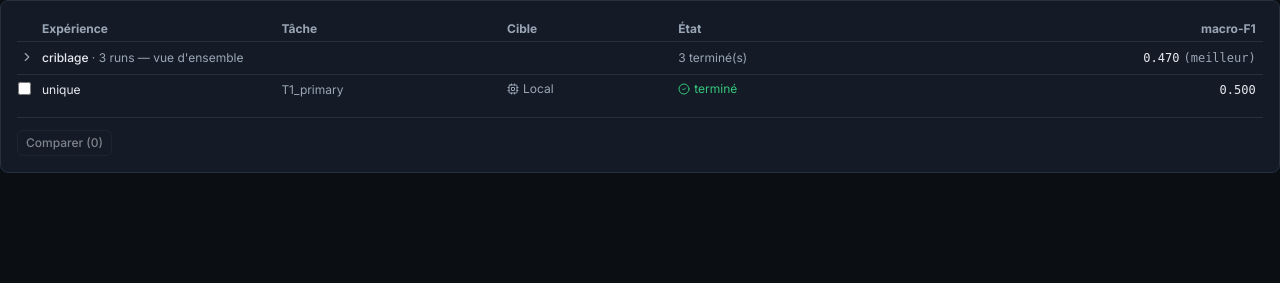
RunList — regroupement des sweeps › ⭐ déplier montre les runs individuels, replier les masque
Click the button with test id "run-group-toggle-sweep-1" at (27, 57), box [18,48,36,66]
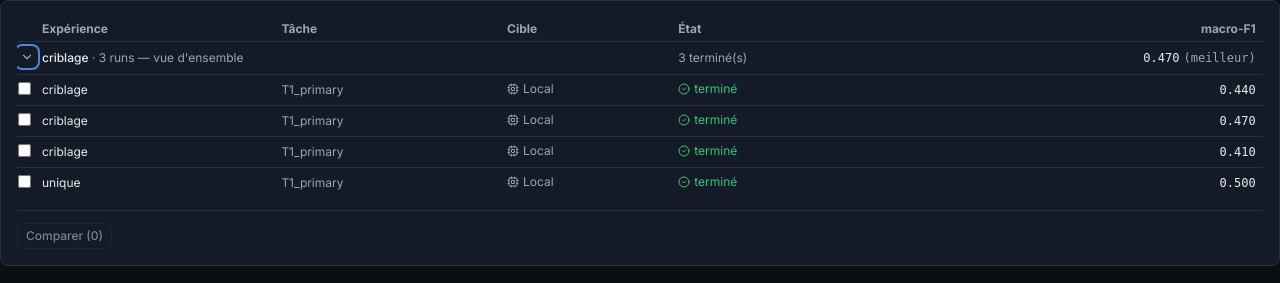
Now the button with test id "run-group-toggle-sweep-1" is expanded
Now the row with test id "run-s1" is shown, box [17,74,1263,106]
Now the row with test id "run-s2" is shown, box [17,106,1263,136]
Click the button with test id "run-group-toggle-sweep-1" at (27, 57), box [18,48,36,66]
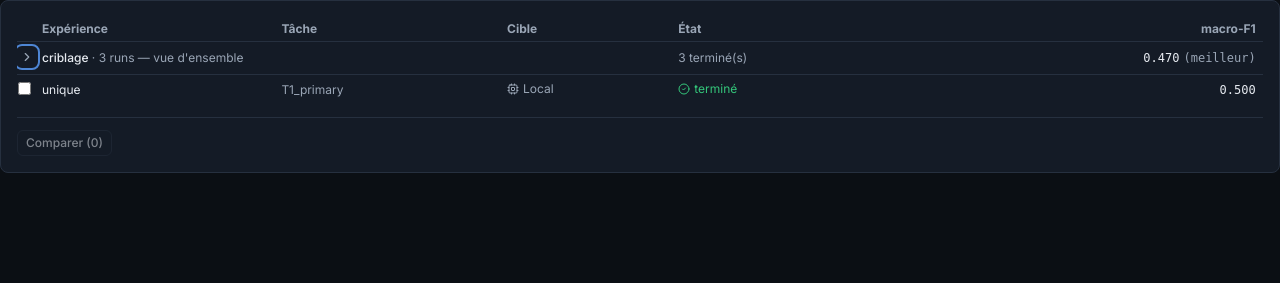
Now the row with test id "run-s1" is gone
